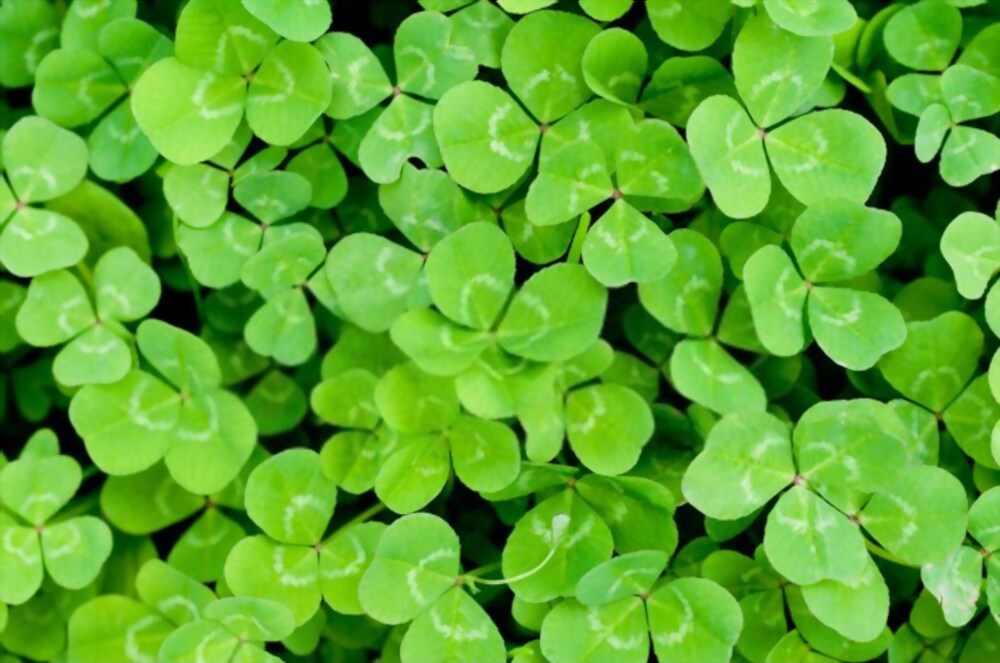clover: (5, 3, 990, 651)
